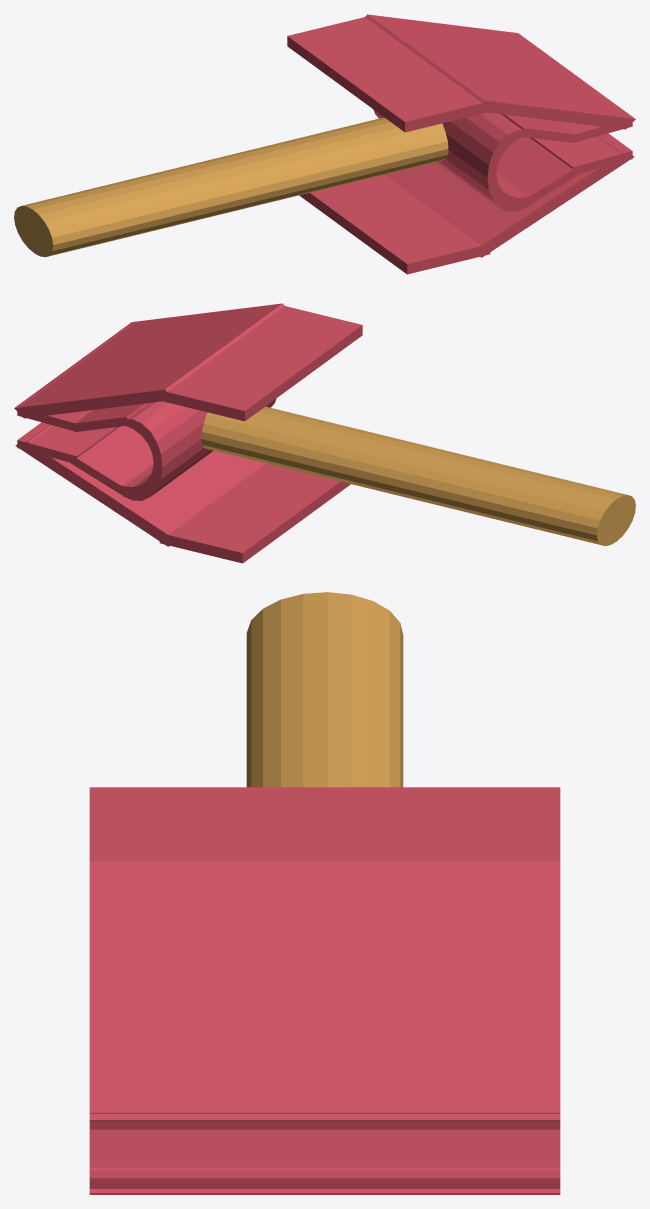
The model's file is clamp.glb.
3 views of the same model, one above another, from view 1: azimuth 30°, elevation 25°; view 2: azimuth 150°, elevation 25°; view 3: azimuth 270°, elevation 25° (orthographic). The views are drawn at different scales.
Parts seen in each view (by area): view 1: Mesh_Mesh_head_geo.001_lambert2SG.001; view 2: Mesh_Mesh_head_geo.001_lambert2SG.001; view 3: Mesh_Mesh_head_geo.001_lambert2SG.001.
Boxes of the visible parts, x1,y1,x2,y2 form: Mesh_Mesh_head_geo.001_lambert2SG.001: (14,14,635,274); Mesh_Mesh_head_geo.001_lambert2SG.001: (14,303,635,563); Mesh_Mesh_head_geo.001_lambert2SG.001: (89,592,560,1194).
Bounding box in the file's own units: 40 × 11 × 15.
